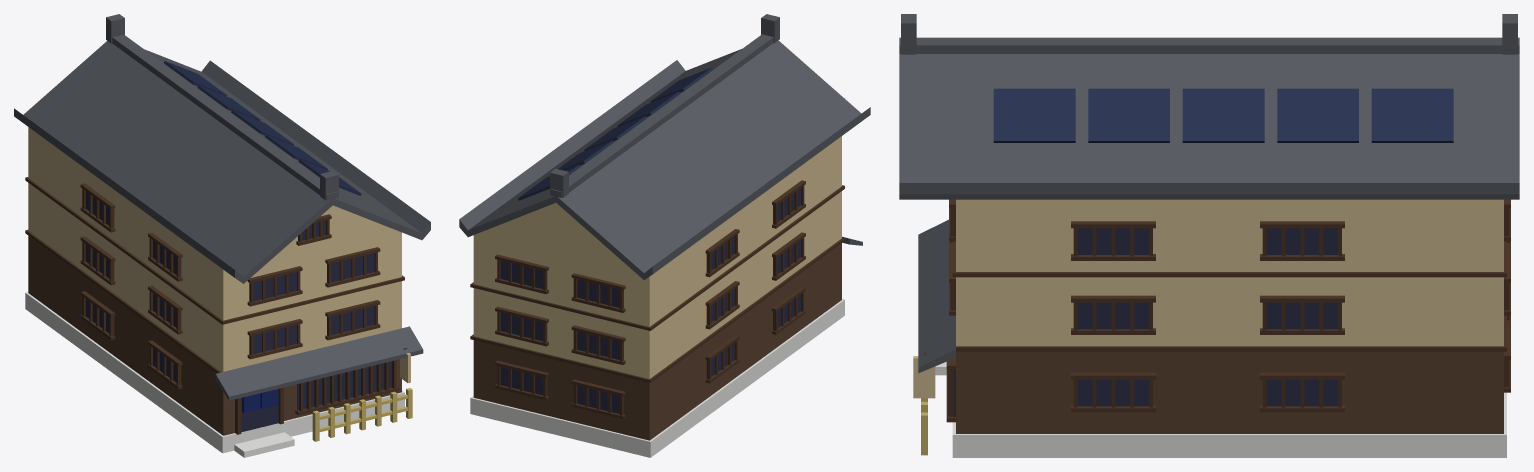
File: house-1x2-3f-machiya-a-solar.glb
3 views of the same model, side by side, from view 1: azimuth 30°, elevation 25°; view 2: azimuth 150°, elevation 25°; view 3: azimuth 270°, elevation 25° (orthographic). The views are drawn at different scales.
Visible parts, largest first — view 1: house-1x2-3f-machiya-a-solar; view 2: house-1x2-3f-machiya-a-solar; view 3: house-1x2-3f-machiya-a-solar.
Boxes of the visible parts, x1,y1,x2,y2 form: house-1x2-3f-machiya-a-solar: (14,14,430,457); house-1x2-3f-machiya-a-solar: (459,14,870,457); house-1x2-3f-machiya-a-solar: (899,14,1519,457).
Bounding box in the file's own units: 1.01 × 1.32 × 1.97.
Materials: 1 (1 with a texture image).
